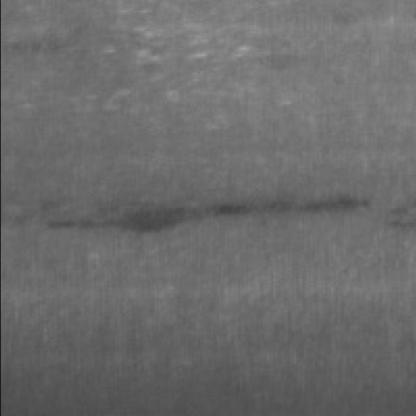inclusion: (39, 187, 235, 250), (198, 187, 374, 227)
